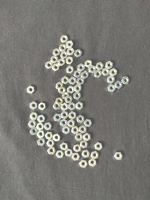nut: (115, 152, 124, 161), (91, 151, 100, 160), (82, 150, 91, 159), (75, 133, 84, 142), (95, 142, 103, 151), (72, 153, 81, 161), (65, 149, 74, 157), (56, 151, 65, 159), (47, 147, 56, 155), (45, 132, 54, 140), (37, 131, 46, 139), (37, 115, 46, 123), (84, 120, 93, 128), (77, 115, 85, 124), (106, 61, 114, 70), (94, 70, 103, 78), (89, 65, 97, 74), (62, 76, 70, 85), (75, 49, 83, 58), (89, 159, 97, 167), (80, 161, 88, 169), (74, 145, 82, 153), (80, 141, 88, 149), (61, 143, 69, 151), (38, 139, 46, 147), (53, 134, 61, 142), (30, 128, 38, 136), (44, 123, 52, 131), (36, 123, 44, 131), (30, 113, 38, 121), (30, 102, 38, 110), (27, 86, 35, 94), (83, 134, 91, 142), (79, 126, 87, 134), (68, 120, 76, 128), (60, 119, 68, 127), (69, 112, 77, 120), (61, 111, 69, 119), (54, 114, 62, 122), (76, 102, 84, 110), (61, 103, 69, 111), (74, 92, 82, 100), (58, 86, 66, 94), (56, 82, 64, 90), (67, 86, 75, 94), (77, 77, 85, 85), (115, 81, 123, 89), (108, 85, 116, 93), (108, 76, 116, 84), (110, 69, 118, 77), (102, 68, 110, 76), (85, 60, 93, 68), (69, 77, 77, 85), (74, 70, 82, 78), (67, 66, 75, 74), (66, 57, 74, 65), (58, 59, 66, 67), (45, 61, 53, 69), (53, 48, 61, 56), (67, 48, 75, 56), (59, 44, 67, 52), (61, 35, 69, 43), (28, 121, 37, 128), (72, 126, 79, 135), (63, 126, 70, 135), (47, 140, 55, 147), (39, 103, 46, 111), (69, 103, 76, 111), (53, 103, 61, 110), (65, 96, 73, 103), (75, 85, 82, 93), (122, 77, 130, 84), (96, 63, 104, 70), (82, 71, 89, 79), (78, 64, 85, 72), (52, 64, 60, 71), (51, 56, 58, 64), (61, 51, 68, 59), (66, 41, 74, 48), (56, 98, 63, 105), (63, 93, 70, 100)
